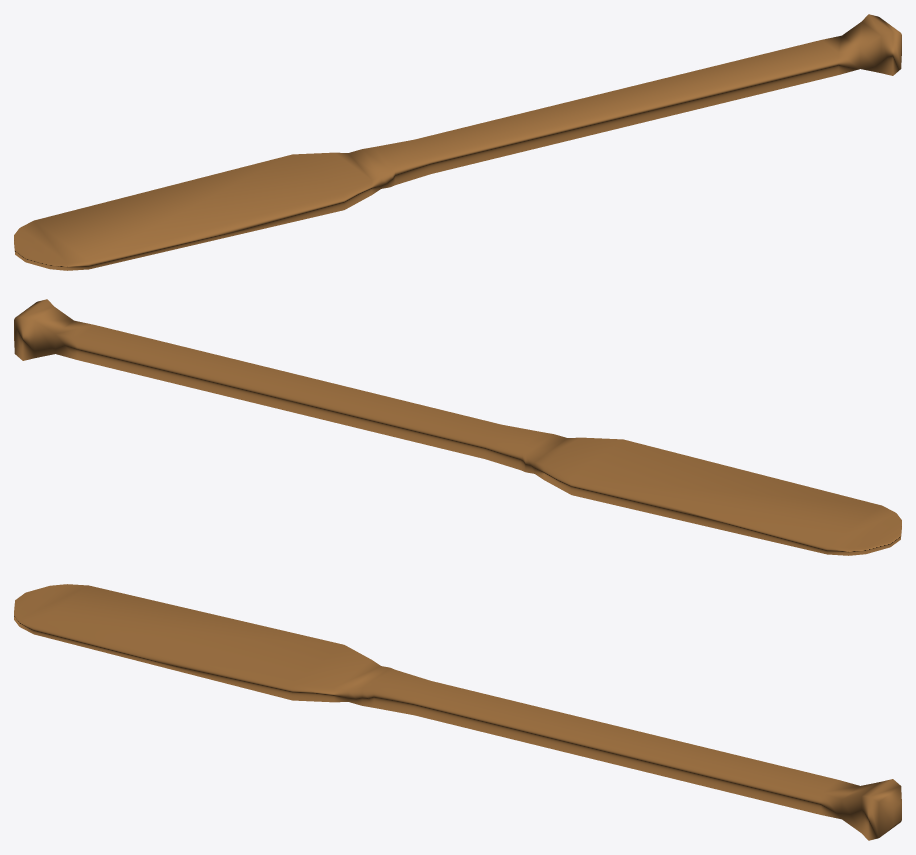
The model's file is Collin_Paddle.fbx.
3 renders of one model, top to bottom at view 1: azimuth 30°, elevation 25°; view 2: azimuth 150°, elevation 25°; view 3: azimuth 330°, elevation 25°, orthographic.
Parts seen in each view (by area): view 1: Paddle; view 2: Paddle; view 3: Paddle.
Boxes of the visible parts, x1,y1,x2,y2 form: Paddle: (14, 14, 901, 270); Paddle: (14, 299, 901, 555); Paddle: (14, 584, 901, 840).
Size of the model in its own units: 149 by 7.12 by 16.2.
